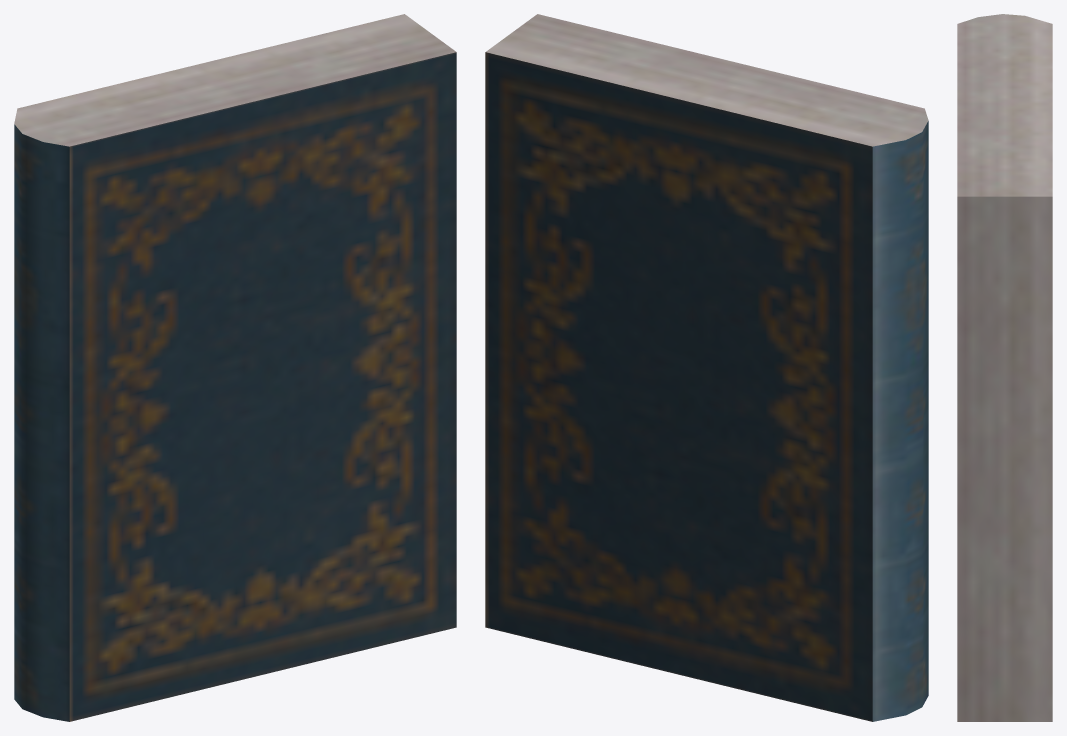
Rendered from ExportLibraryBookFull_B.FBX.
The picture shows the model from 3 angles, left to right: view 1: azimuth 30°, elevation 25°; view 2: azimuth 150°, elevation 25°; view 3: azimuth 270°, elevation 25°; orthographic projection. The views are drawn at different scales.
Parts seen in each view (by area): view 1: lib_books_full_C; view 2: lib_books_full_C; view 3: lib_books_full_C.
Boxes of the visible parts, left/top/right/bottom form: lib_books_full_C: left=14, top=14, right=456, bottom=721; lib_books_full_C: left=485, top=14, right=928, bottom=721; lib_books_full_C: left=957, top=14, right=1052, bottom=721.
Bounding box in the file's own units: 13.52 × 2.98 × 18.16.
